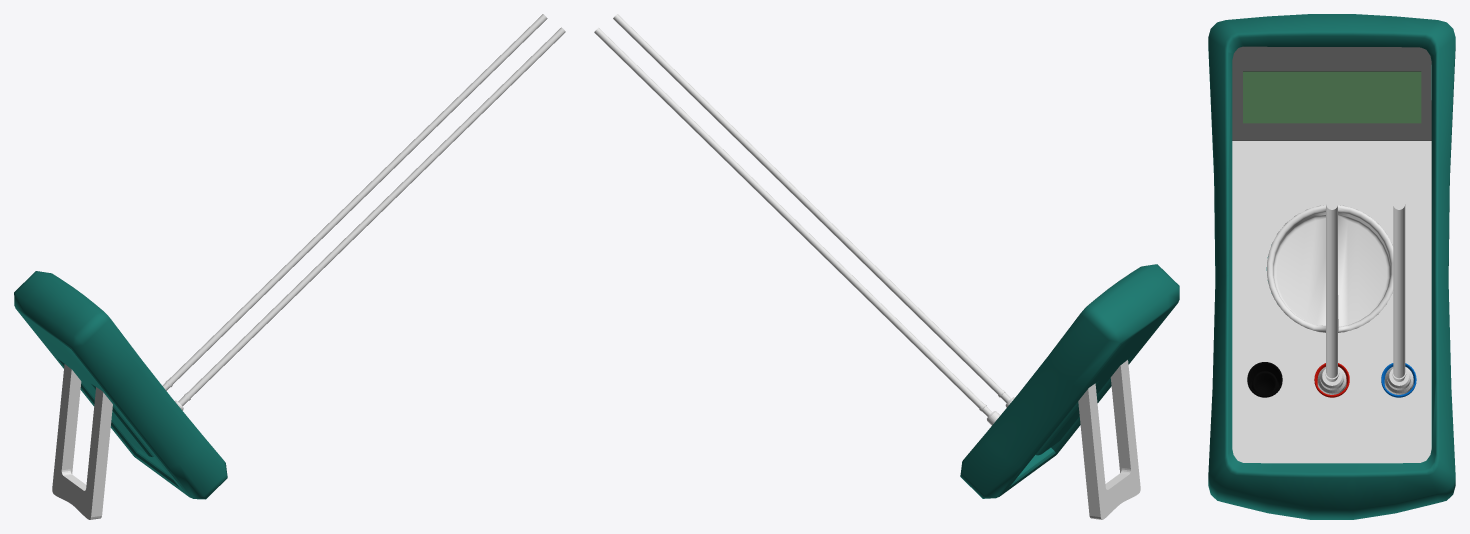
The model's file is multimeter.fbx.
The picture shows the model from 3 angles, left to right: view 1: azimuth 30°, elevation 25°; view 2: azimuth 150°, elevation 25°; view 3: azimuth 270°, elevation 25°; orthographic projection. The views are drawn at different scales.
Visible parts, largest first — view 1: Body, Holder, Cable1, Cable2; view 2: Body, Holder, Cable2, Cable1; view 3: Front Panel, Body, Cursor, Shield, LCD, Cable2, Cable1, PinoutBlack, CableConn2, CableConn1, PinoutBlue, PinoutRed.
Boxes of the visible parts, left/top/right/bottom form: Body: left=14, top=271, right=227, bottom=499; Holder: left=52, top=364, right=112, bottom=519; Cable1: left=186, top=27, right=565, bottom=397; Cable2: left=168, top=14, right=547, bottom=384; Body: left=960, top=264, right=1179, bottom=498; Holder: left=1078, top=360, right=1140, bottom=519; Cable2: left=594, top=28, right=983, bottom=408; Cable1: left=613, top=14, right=1002, bottom=394; Front Panel: left=1232, top=141, right=1431, bottom=463; Body: left=1208, top=14, right=1455, bottom=519; Cursor: left=1267, top=205, right=1393, bottom=332; Shield: left=1232, top=46, right=1431, bottom=140; LCD: left=1243, top=71, right=1421, bottom=123; Cable2: left=1393, top=198, right=1405, bottom=378; Cable1: left=1326, top=198, right=1337, bottom=378; PinoutBlack: left=1247, top=362, right=1282, bottom=397; CableConn2: left=1384, top=367, right=1413, bottom=394; CableConn1: left=1317, top=366, right=1346, bottom=394; PinoutBlue: left=1381, top=363, right=1416, bottom=397; PinoutRed: left=1314, top=363, right=1349, bottom=397.
Bounding box in the file's own units: 470 × 311 × 105.
